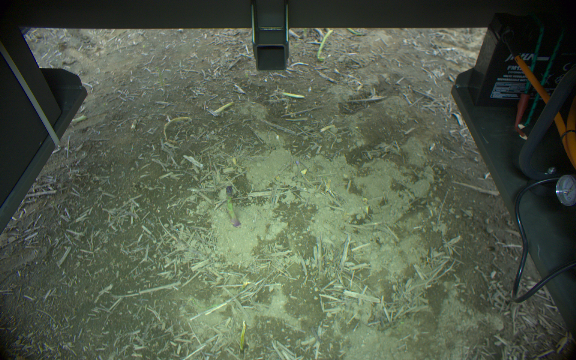aspa: (224, 182, 241, 229), (315, 30, 332, 61)
